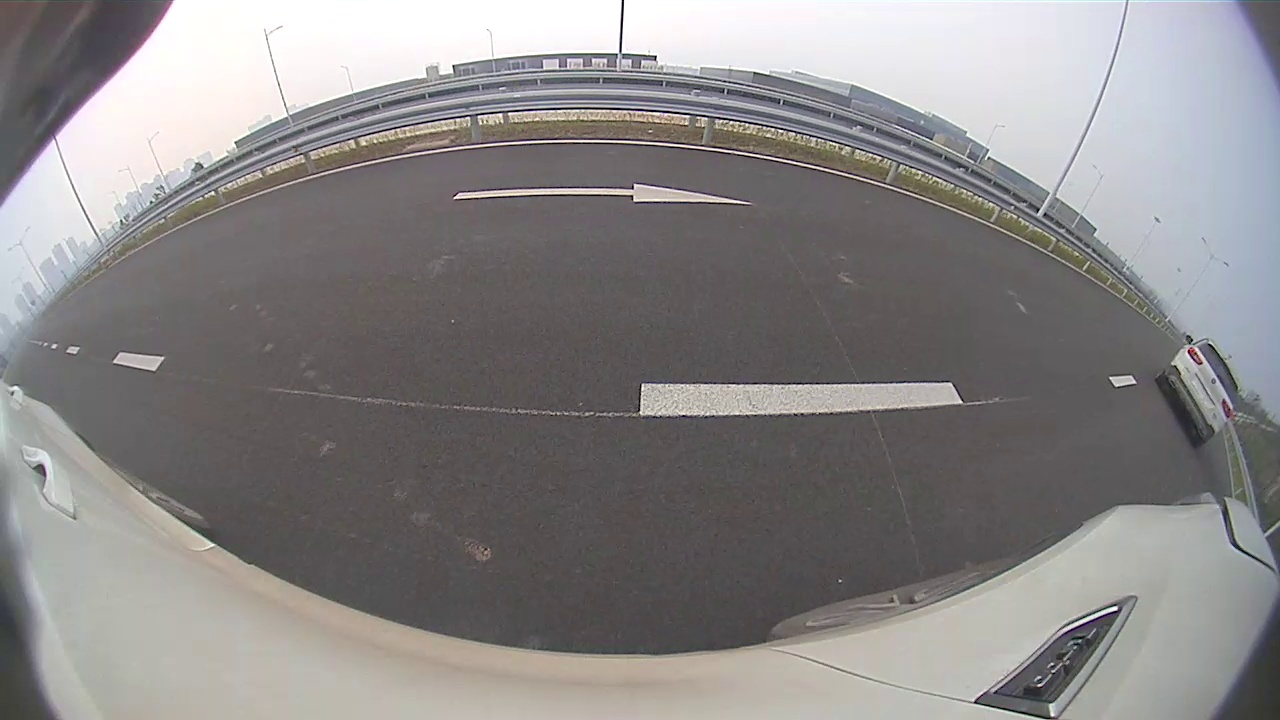car: (695, 155, 744, 189)
